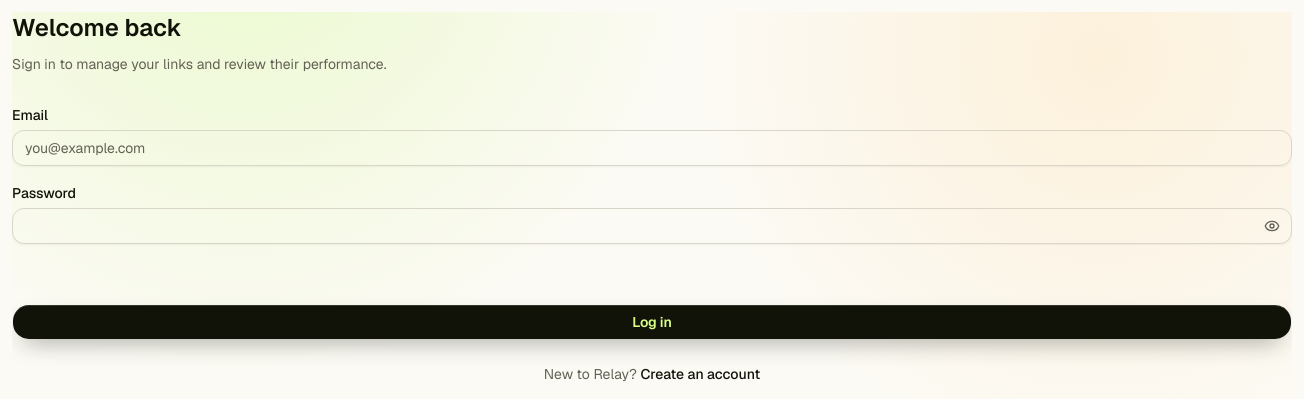
Scenario: AuthForm › toggles password visibility
Click the button named "Show password".
click(1272, 226)  # box x1=1258 y1=212 x2=1286 y2=240
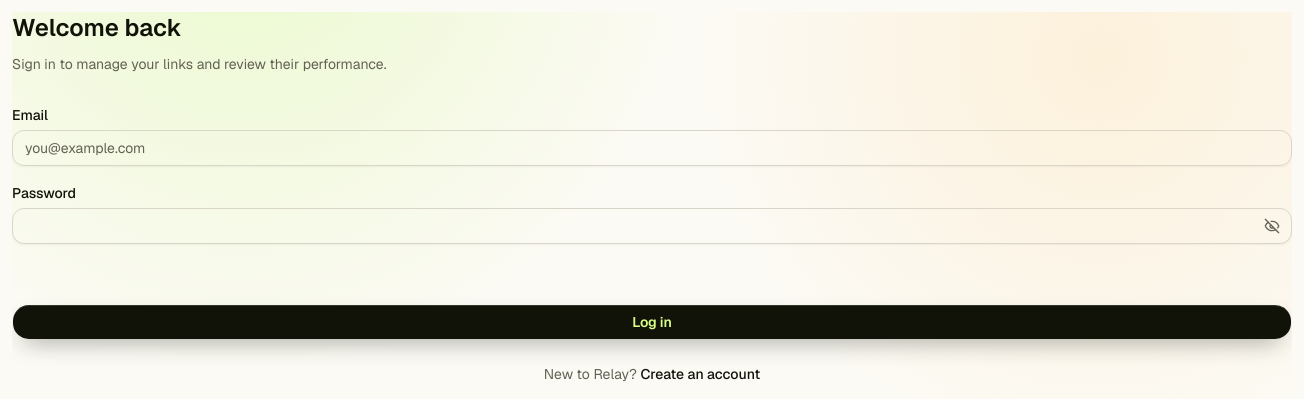
Result: the button named "Hide password" is shown at x1=1258 y1=212 x2=1286 y2=240
